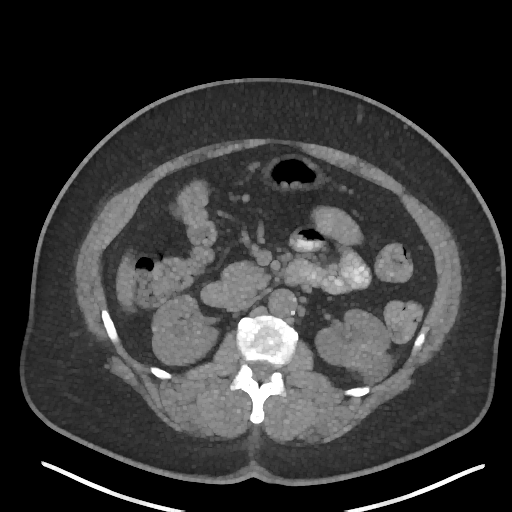Lesion: (343, 349, 394, 384)
